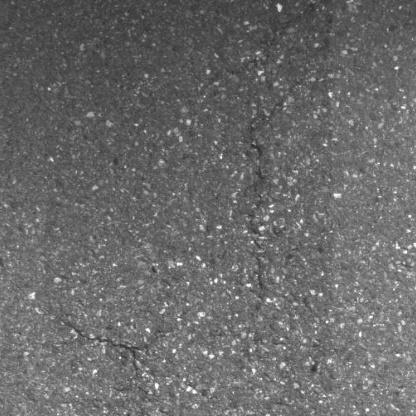Cracks: (244, 72, 307, 306), (258, 0, 330, 93), (57, 318, 149, 377), (140, 407, 168, 416)
